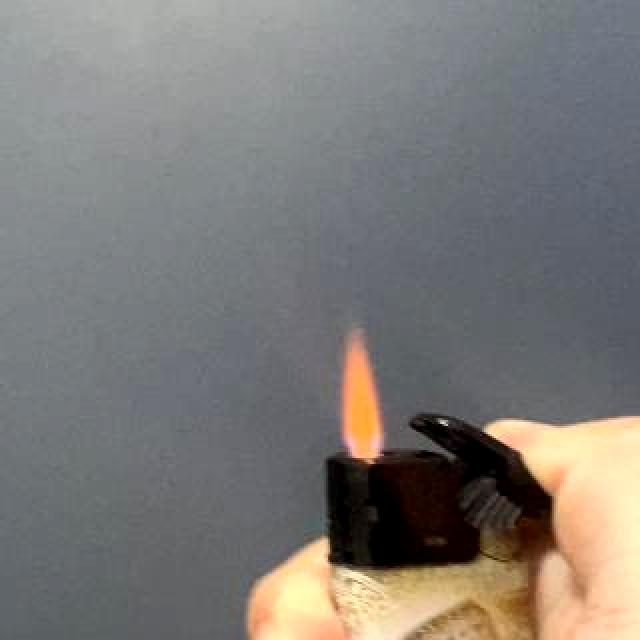fire: (335, 327, 389, 463)
